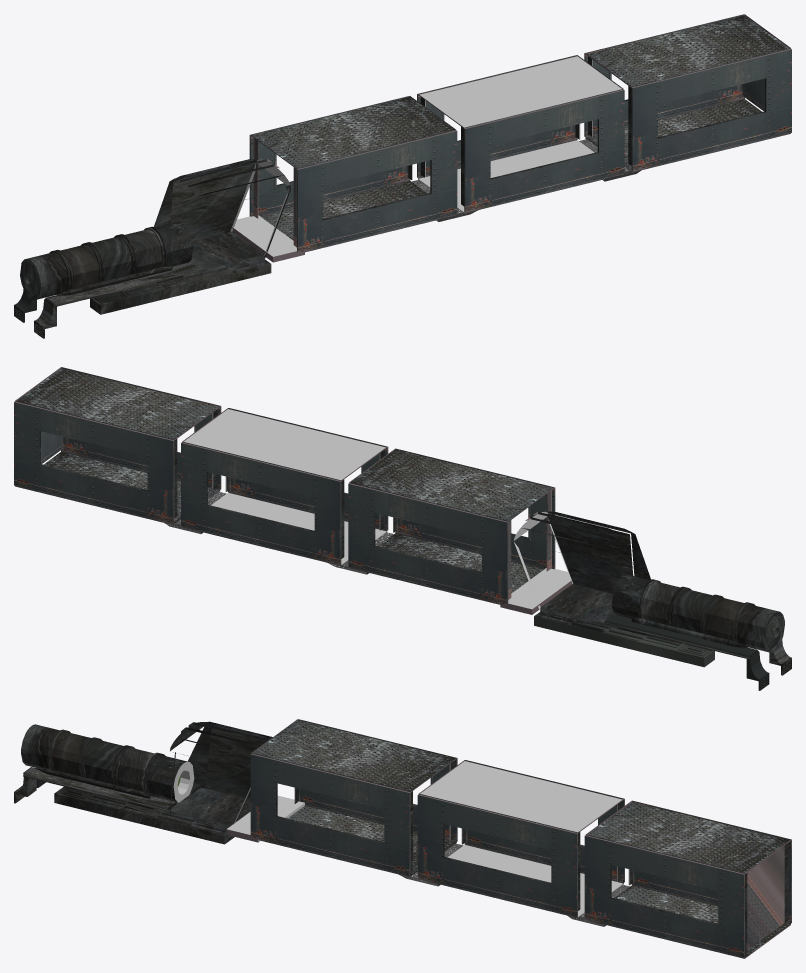
File: Tren.obj
3 views of the same model, one above another, from view 1: azimuth 30°, elevation 25°; view 2: azimuth 150°, elevation 25°; view 3: azimuth 330°, elevation 25° (orthographic).
Visible parts, largest first — view 1: Tren; view 2: Tren; view 3: Tren.
Boxes of the visible parts, bbox=[...] form: Tren: bbox=[14, 14, 791, 338]; Tren: bbox=[14, 367, 791, 690]; Tren: bbox=[14, 719, 791, 958].
Bounding box in the file's own units: 92.86 × 13.92 × 10.45.
